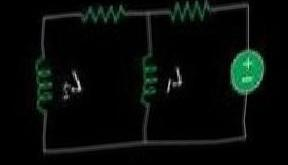Battery: (221, 42, 277, 102)
